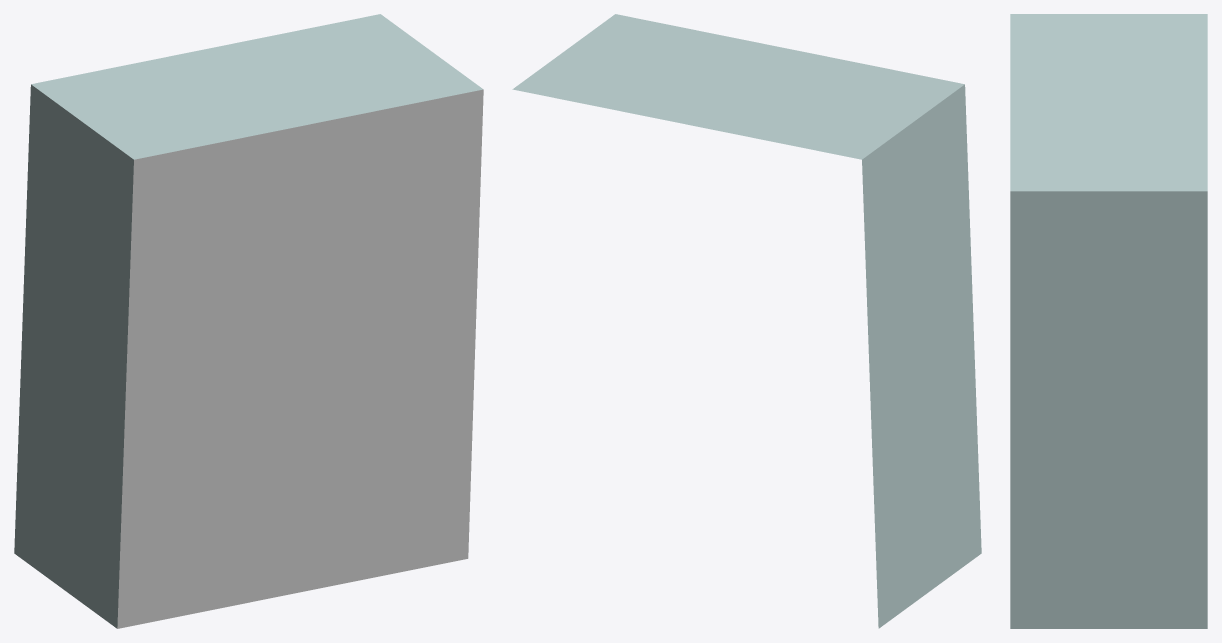
3 views of the same model, side by side, from view 1: azimuth 30°, elevation 25°; view 2: azimuth 150°, elevation 25°; view 3: azimuth 270°, elevation 25° (orthographic). The views are drawn at different scales.
Visible parts, largest first — view 1: 0_2_2_3_3_3_2_2; view 2: 0_2_2_3_3_3_2_2; view 3: 0_2_2_3_3_3_2_2.
Boxes of the visible parts, left/top/right/bottom form: 0_2_2_3_3_3_2_2: left=14, top=14, right=483, bottom=628; 0_2_2_3_3_3_2_2: left=512, top=14, right=981, bottom=628; 0_2_2_3_3_3_2_2: left=1010, top=14, right=1207, bottom=628.
Size of the model in its own units: 6.15 by 7.71 by 3.
